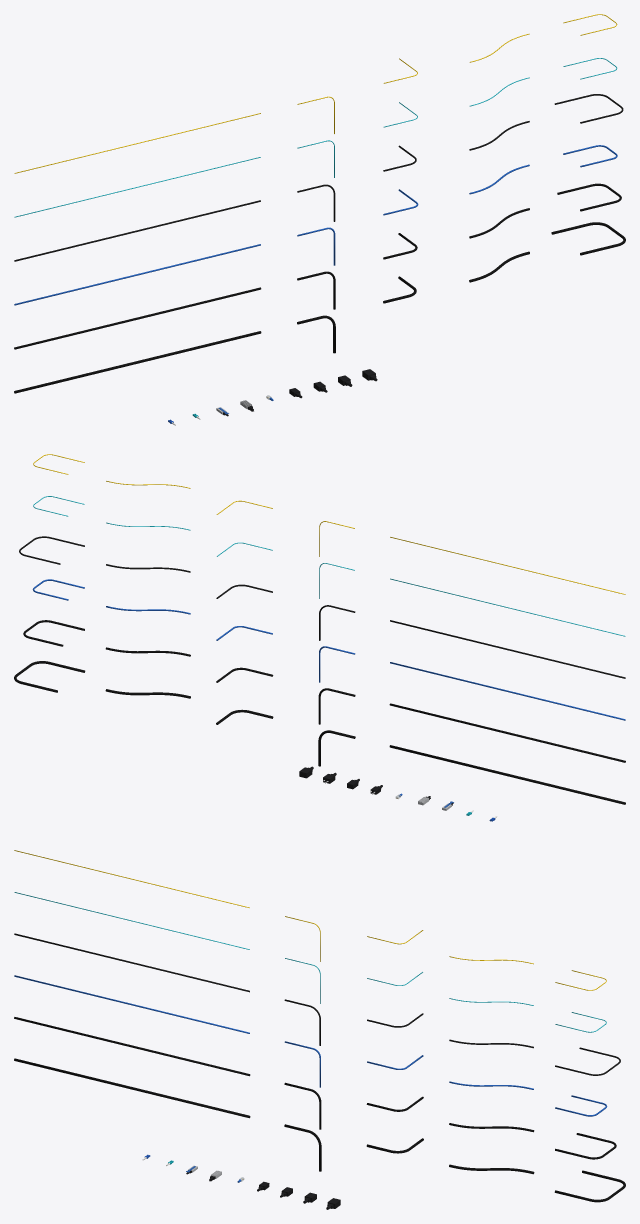
Rendered from cables_kit.glb.
3 renders of one model, top to bottom at view 1: azimuth 30°, elevation 25°; view 2: azimuth 150°, elevation 25°; view 3: azimuth 330°, elevation 25°, orthographic. The views are drawn at different scales.
Visible parts, largest first — view 1: cable_c19_power_straight_1m, cable_c13_power_straight_1m, cable_dac_black_straight_1m, cable_cat6_blue_straight_1m; view 2: cable_c19_power_straight_1m, cable_c13_power_straight_1m, cable_dac_black_straight_1m, cable_cat6_blue_straight_1m; view 3: cable_c19_power_straight_1m, cable_c13_power_straight_1m, cable_dac_black_straight_1m, cable_cat6_blue_straight_1m.
Part boxes in pixels (x1,y1,x2,y2): cable_c19_power_straight_1m: (14,331,261,393); cable_c13_power_straight_1m: (14,287,261,349); cable_dac_black_straight_1m: (14,200,260,261); cable_cat6_blue_straight_1m: (14,244,260,305); cable_c19_power_straight_1m: (389,745,625,804); cable_c13_power_straight_1m: (389,703,625,762); cable_dac_black_straight_1m: (390,620,625,678); cable_cat6_blue_straight_1m: (390,662,625,720); cable_c19_power_straight_1m: (14,1058,250,1118); cable_c13_power_straight_1m: (14,1017,250,1076); cable_dac_black_straight_1m: (14,933,249,992); cable_cat6_blue_straight_1m: (14,975,249,1033).
Bounding box in the file's own units: 2.5 × 1.09 × 0.3258.
